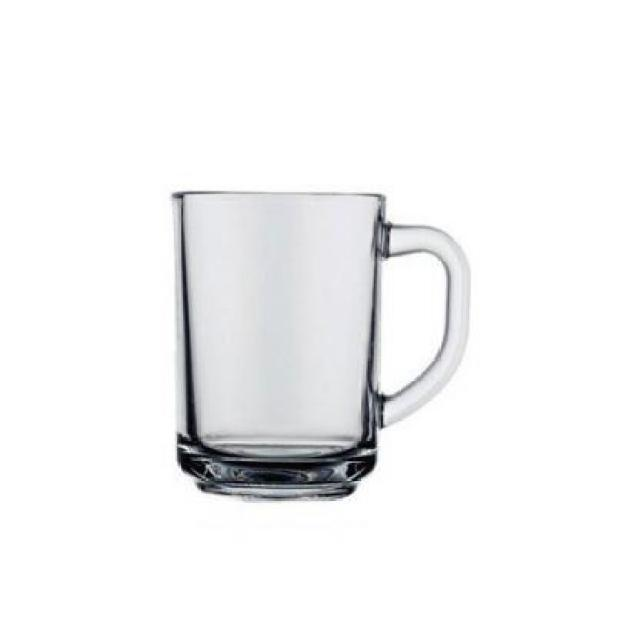taza: (166, 191, 474, 506)
